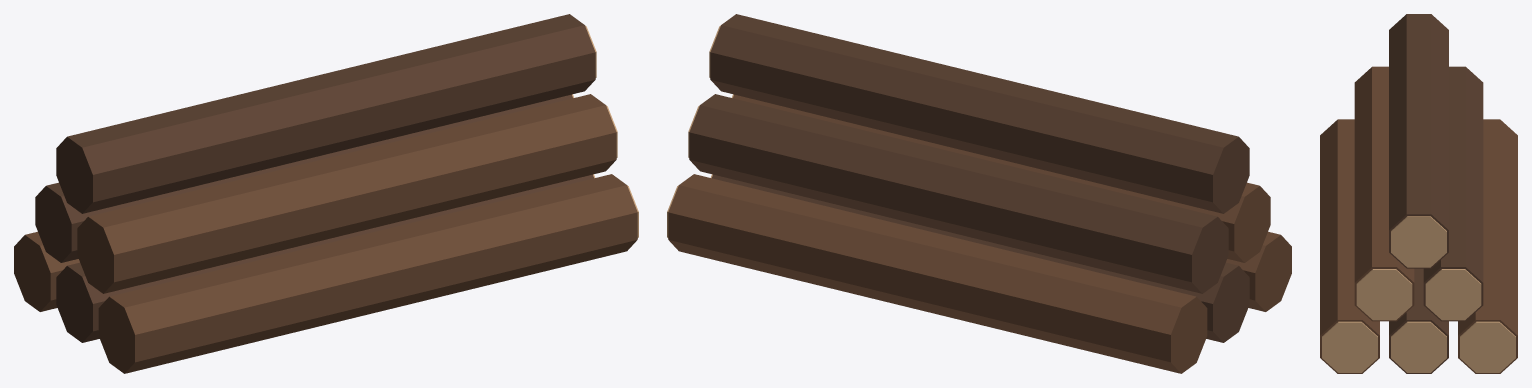
File: log_pile.glb
3 views of the same model, side by side, from view 1: azimuth 30°, elevation 25°; view 2: azimuth 150°, elevation 25°; view 3: azimuth 270°, elevation 25° (orthographic). The views are drawn at different scales.
Visible parts, largest first — view 1: log_pile; view 2: log_pile; view 3: log_pile.
Boxes of the visible parts, <box> form: log_pile: <box>14,14,638,373</box>; log_pile: <box>667,14,1291,373</box>; log_pile: <box>1320,14,1517,373</box>.
Size of the model in its own units: 2.21 by 0.8172 by 0.9172.
